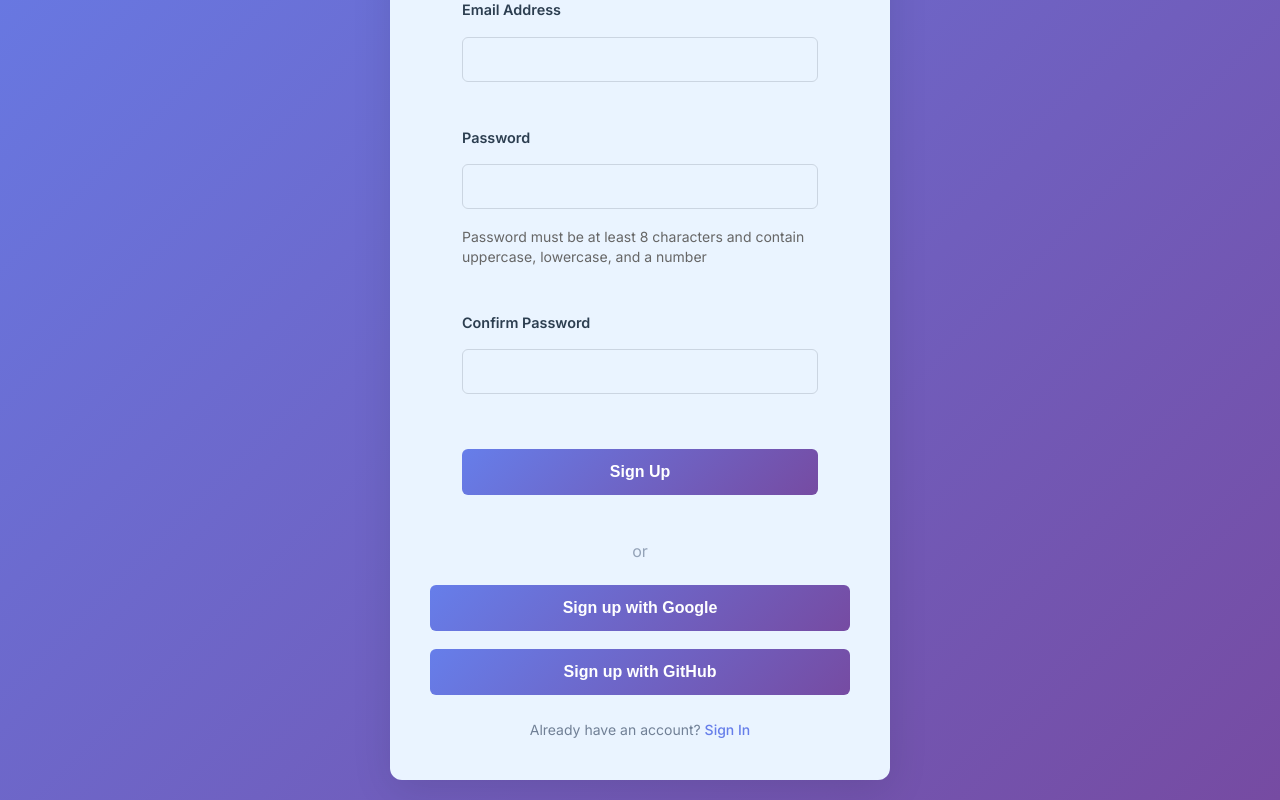
Scenario: Register › shows cancellation message when Google popup is closed
(page scrolled)
Step 1. Click the button "Sign up with Google" → (640, 608), box [430, 585, 850, 631]
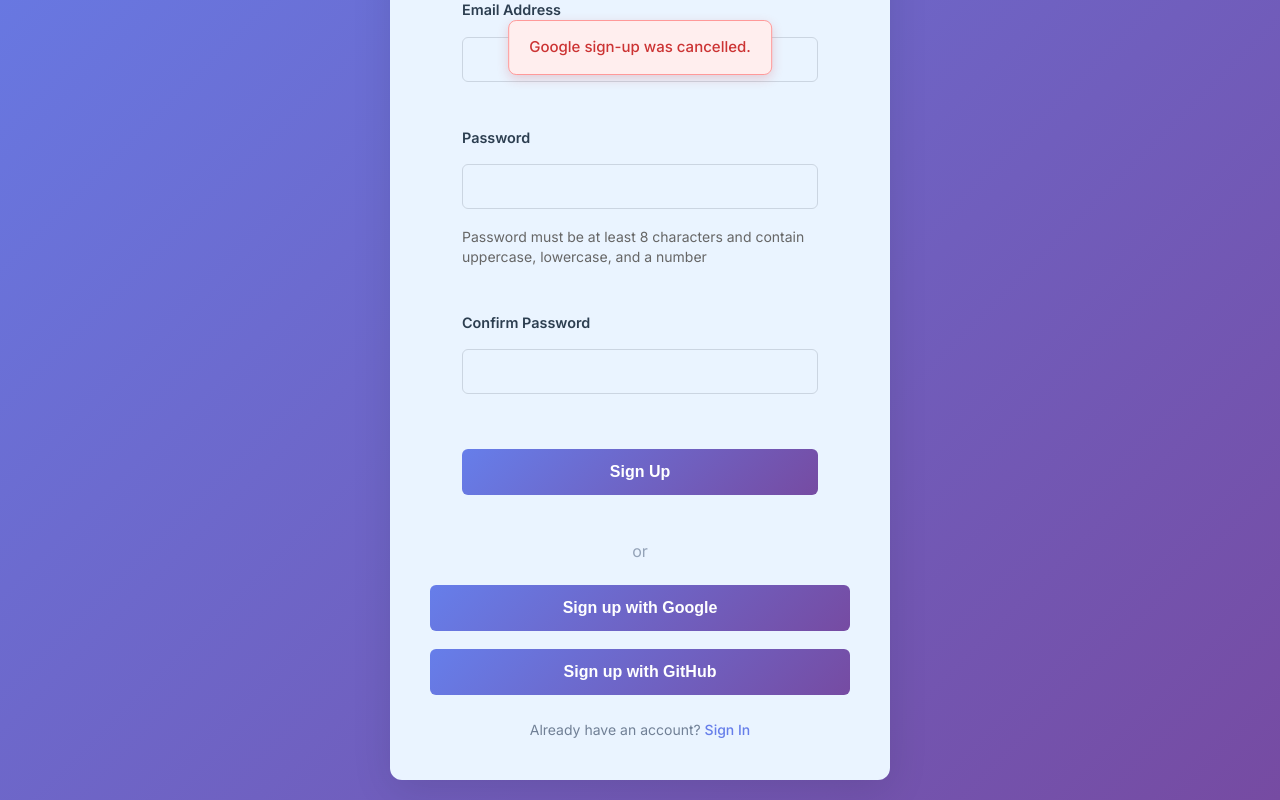
Expected: the text "Google sign-up was cancelled." is shown, [508, 20, 772, 74]
